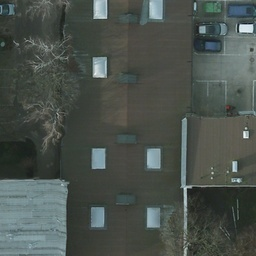car: (195, 37, 223, 54), (196, 23, 229, 37), (234, 21, 256, 34), (1, 2, 16, 17)
